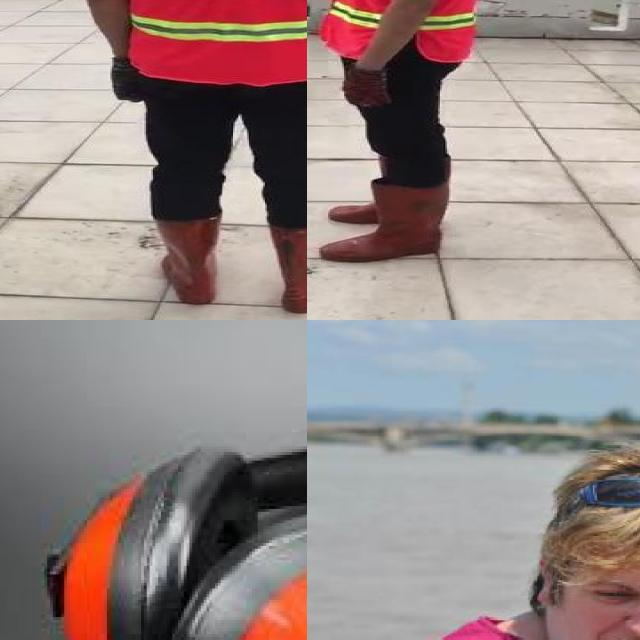Ear-protection: (158, 497, 307, 640), (44, 446, 146, 640)
boots: (321, 181, 447, 263), (150, 213, 222, 305), (268, 219, 307, 313)
face_nomask: (579, 570, 640, 640)
glasses: (560, 469, 640, 520)
hand_glove: (337, 69, 388, 111), (110, 56, 142, 101)
head_nohelmet: (546, 449, 640, 569)
person: (64, 0, 307, 314), (307, 434, 640, 640), (307, 0, 498, 270)
vest: (100, 0, 307, 84), (318, 0, 476, 61)
